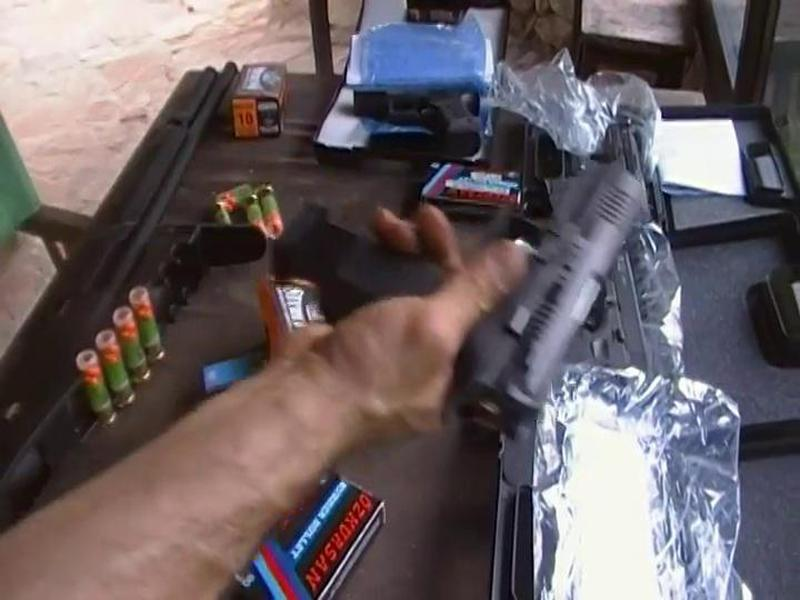Pistola: (347, 114, 663, 472)
